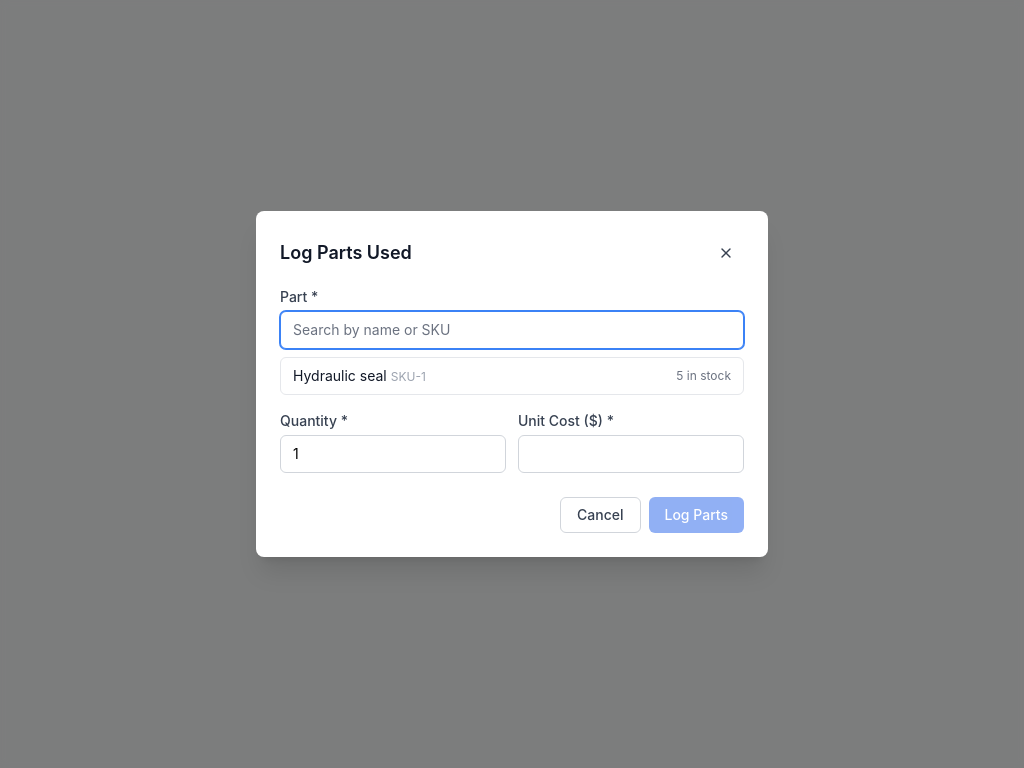
Scenario: PartLogModal › fills in the unit cost from the catalog and totals the line
Click the button "Hydraulic seal" at x=340, y=376, box [281, 358, 743, 394]
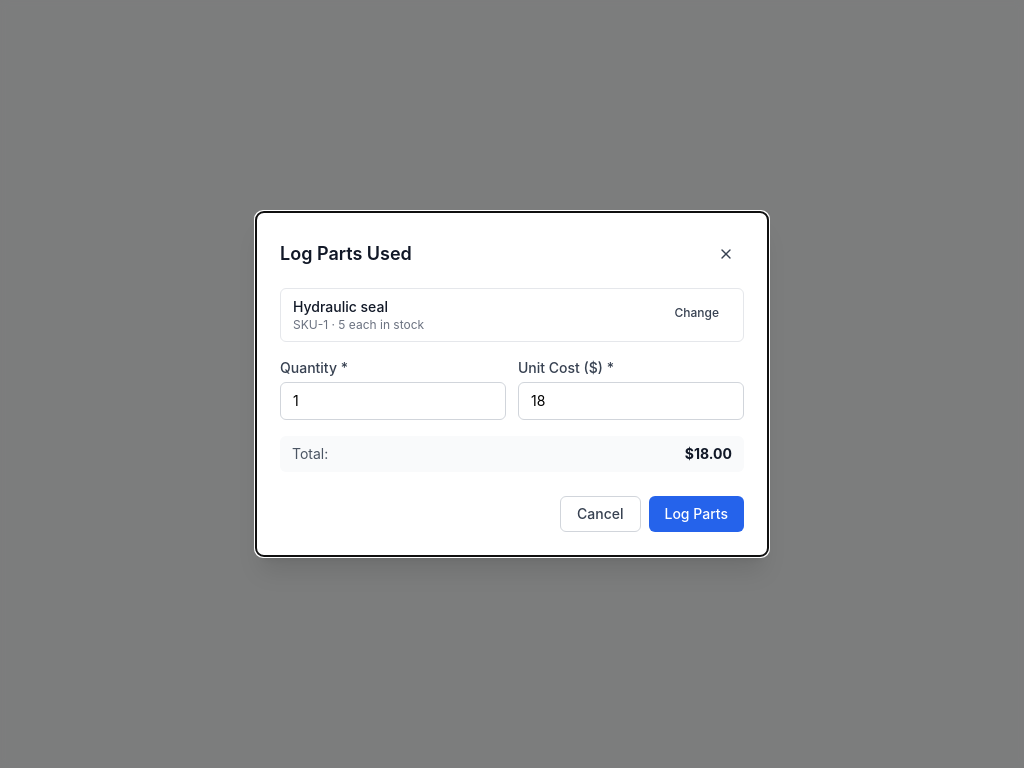
Expected: the number field labelled "Unit Cost ($) *" holds "18", [518, 382, 744, 420]
Clear the number field labelled "Quantity *" at x=393, y=401, box [280, 382, 506, 420]
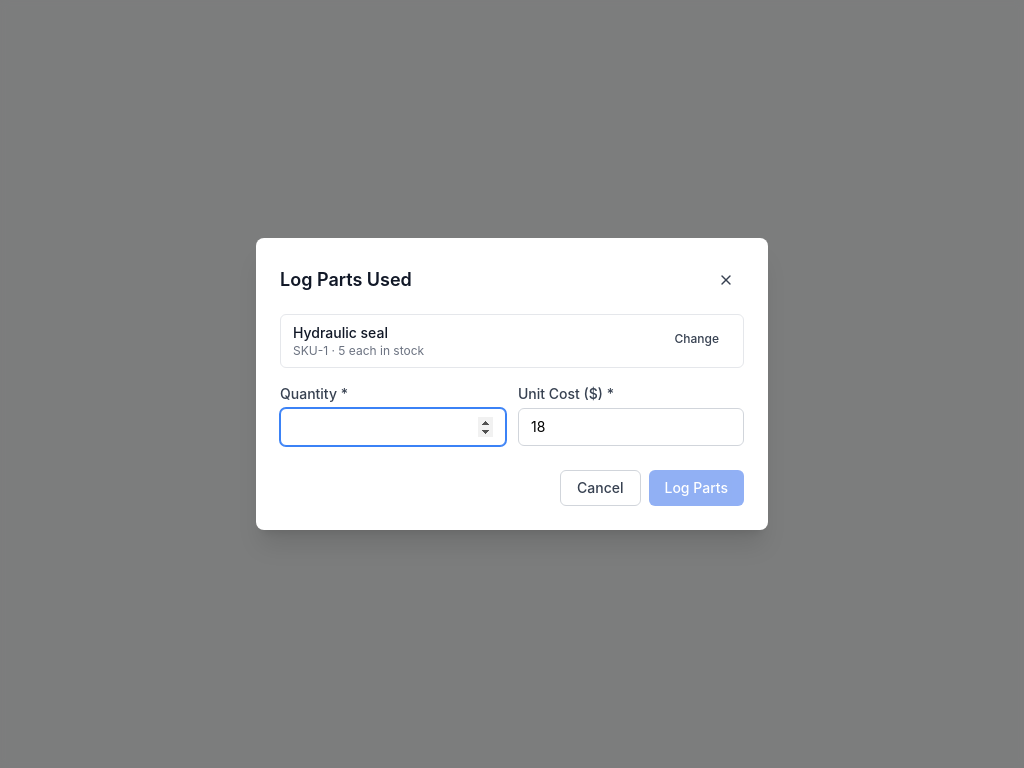
Type "3" into the number field labelled "Quantity *" at x=393, y=427, box [280, 408, 506, 446]
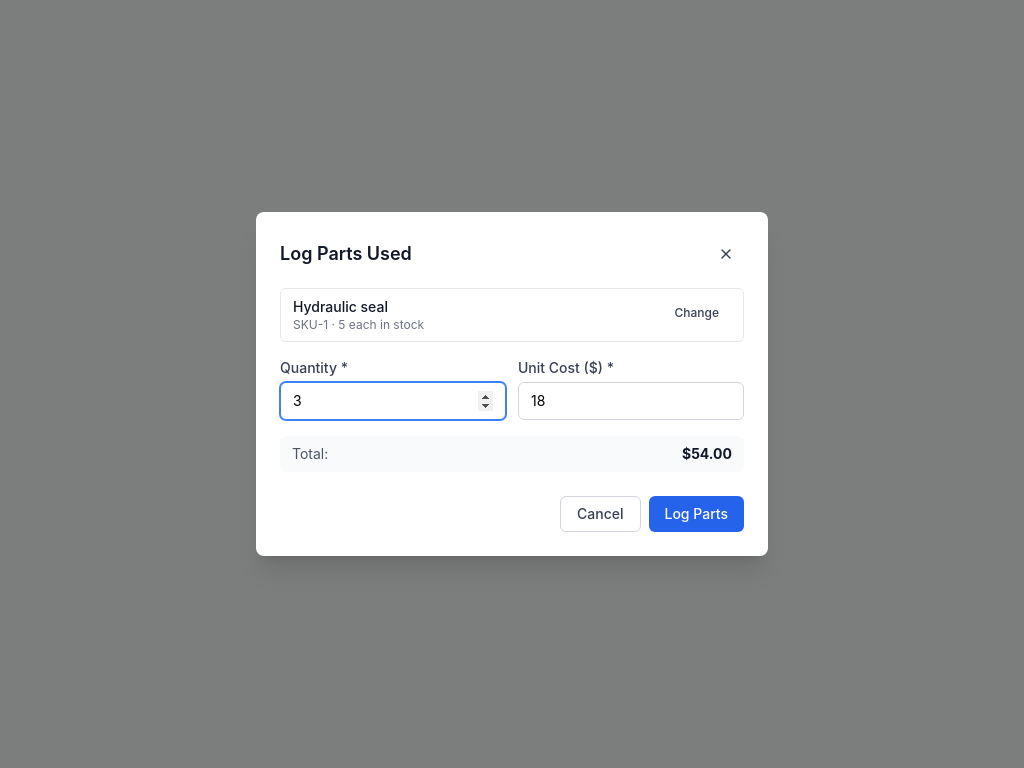
Expected: the text "$54.00" is shown, [682, 444, 732, 464]
